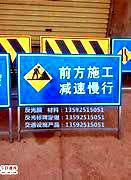sign: (17, 53, 122, 106)
